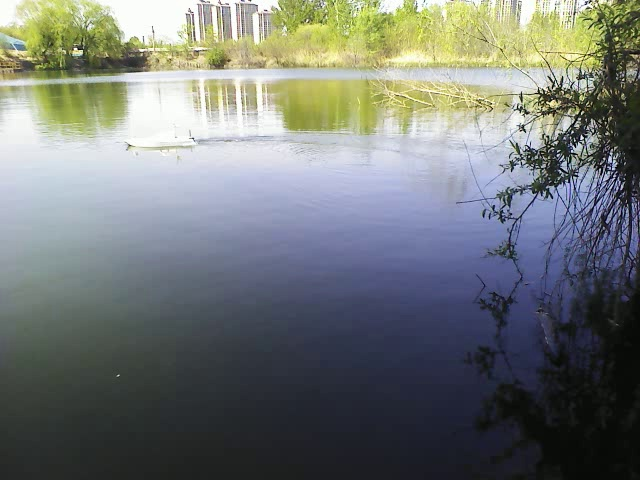boat: (124, 127, 200, 154)
